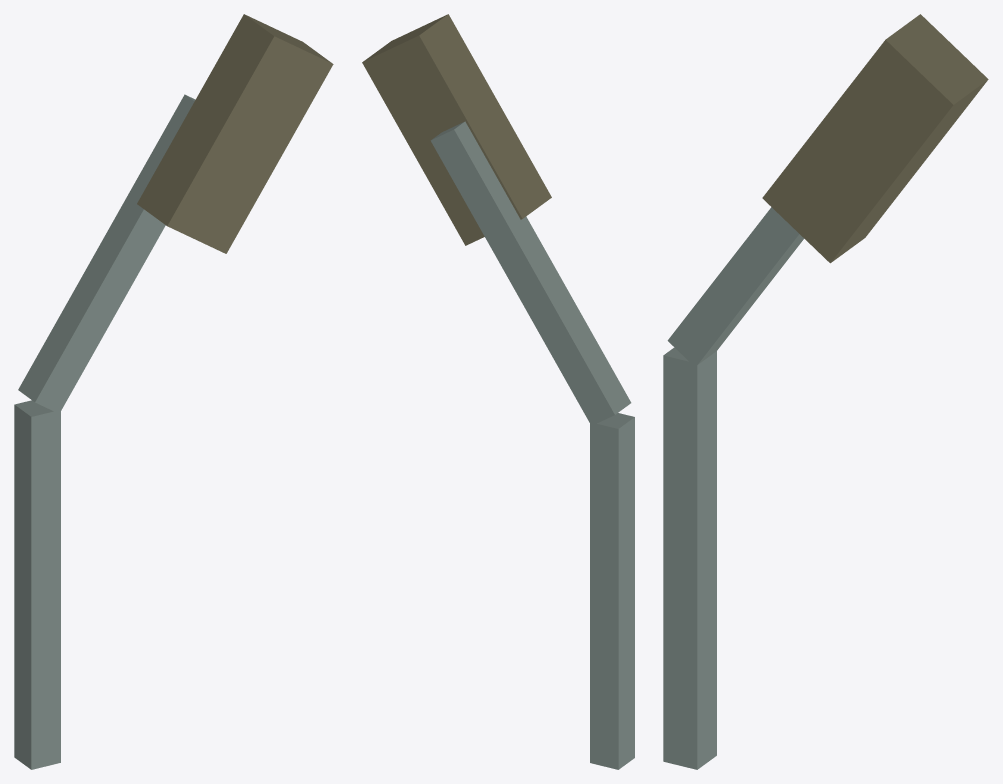
The model's file is SM_Semaforo_v3_Doblado_LOD0.fbx.
The picture shows the model from 3 angles, left to right: view 1: azimuth 30°, elevation 25°; view 2: azimuth 150°, elevation 25°; view 3: azimuth 330°, elevation 25°; orthographic projection. The views are drawn at different scales.
Parts seen in each view (by area): view 1: SM_urbano_extra_v23_LOD0; view 2: SM_urbano_extra_v23_LOD0; view 3: SM_urbano_extra_v23_LOD0.
Part boxes in pixels (x1,y1,x2,y2): SM_urbano_extra_v23_LOD0: (14, 14, 333, 769); SM_urbano_extra_v23_LOD0: (362, 14, 634, 769); SM_urbano_extra_v23_LOD0: (663, 14, 988, 769).
Size of the model in its own units: 1.31 by 3.17 by 0.345.
